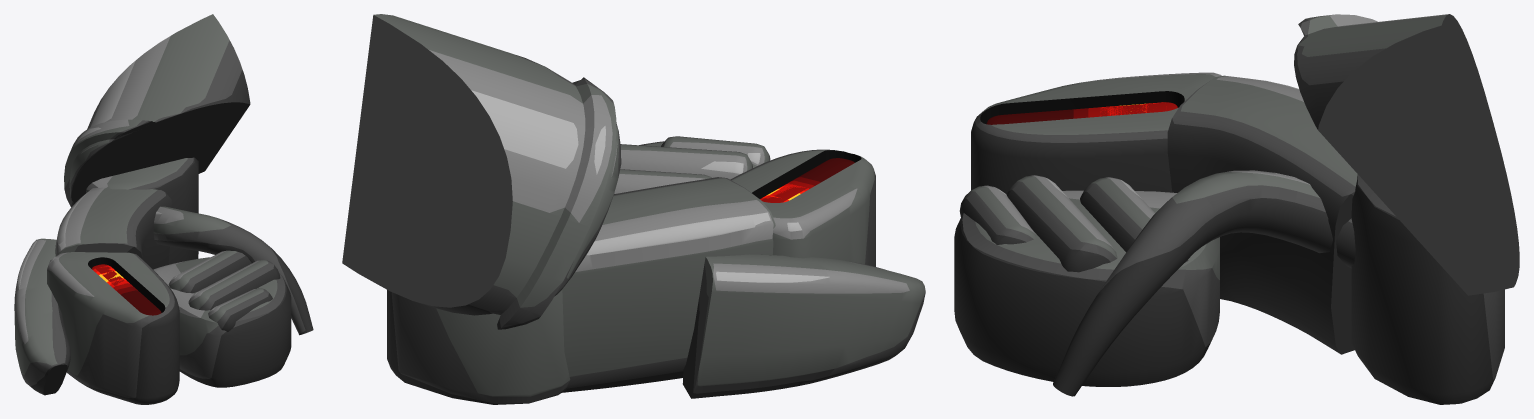
The model's file is mortar_mount.glb.
3 renders of one model, left to right at view 1: azimuth 30°, elevation 25°; view 2: azimuth 150°, elevation 25°; view 3: azimuth 270°, elevation 25°, orthographic. The views are drawn at different scales.
Visible parts, largest first — view 1: mortar_mount; view 2: mortar_mount; view 3: mortar_mount.
Boxes of the visible parts, x1=… form: mortar_mount: x1=14, y1=14, x2=313, y2=404; mortar_mount: x1=342, y1=14, x2=925, y2=404; mortar_mount: x1=954, y1=14, x2=1519, y2=404.
Size of the model in its own units: 23.39 by 19.01 by 24.36.
